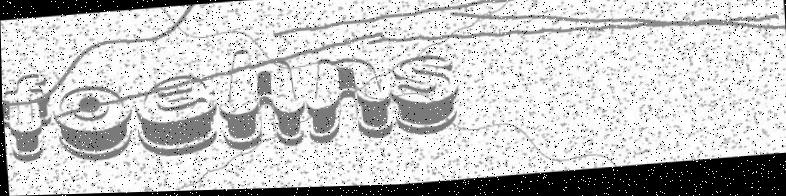e: (132, 67, 219, 159)
f: (2, 70, 61, 167)
h: (211, 41, 308, 159)
n: (298, 53, 398, 149)
o: (49, 81, 138, 166)
s: (385, 49, 464, 143)
